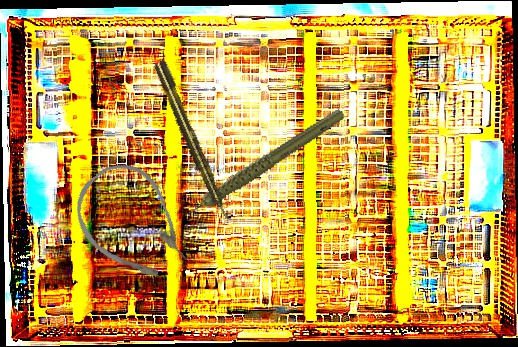Cannula: (59, 149, 206, 301)
Handpiece: (160, 107, 359, 220), (151, 58, 235, 226)
